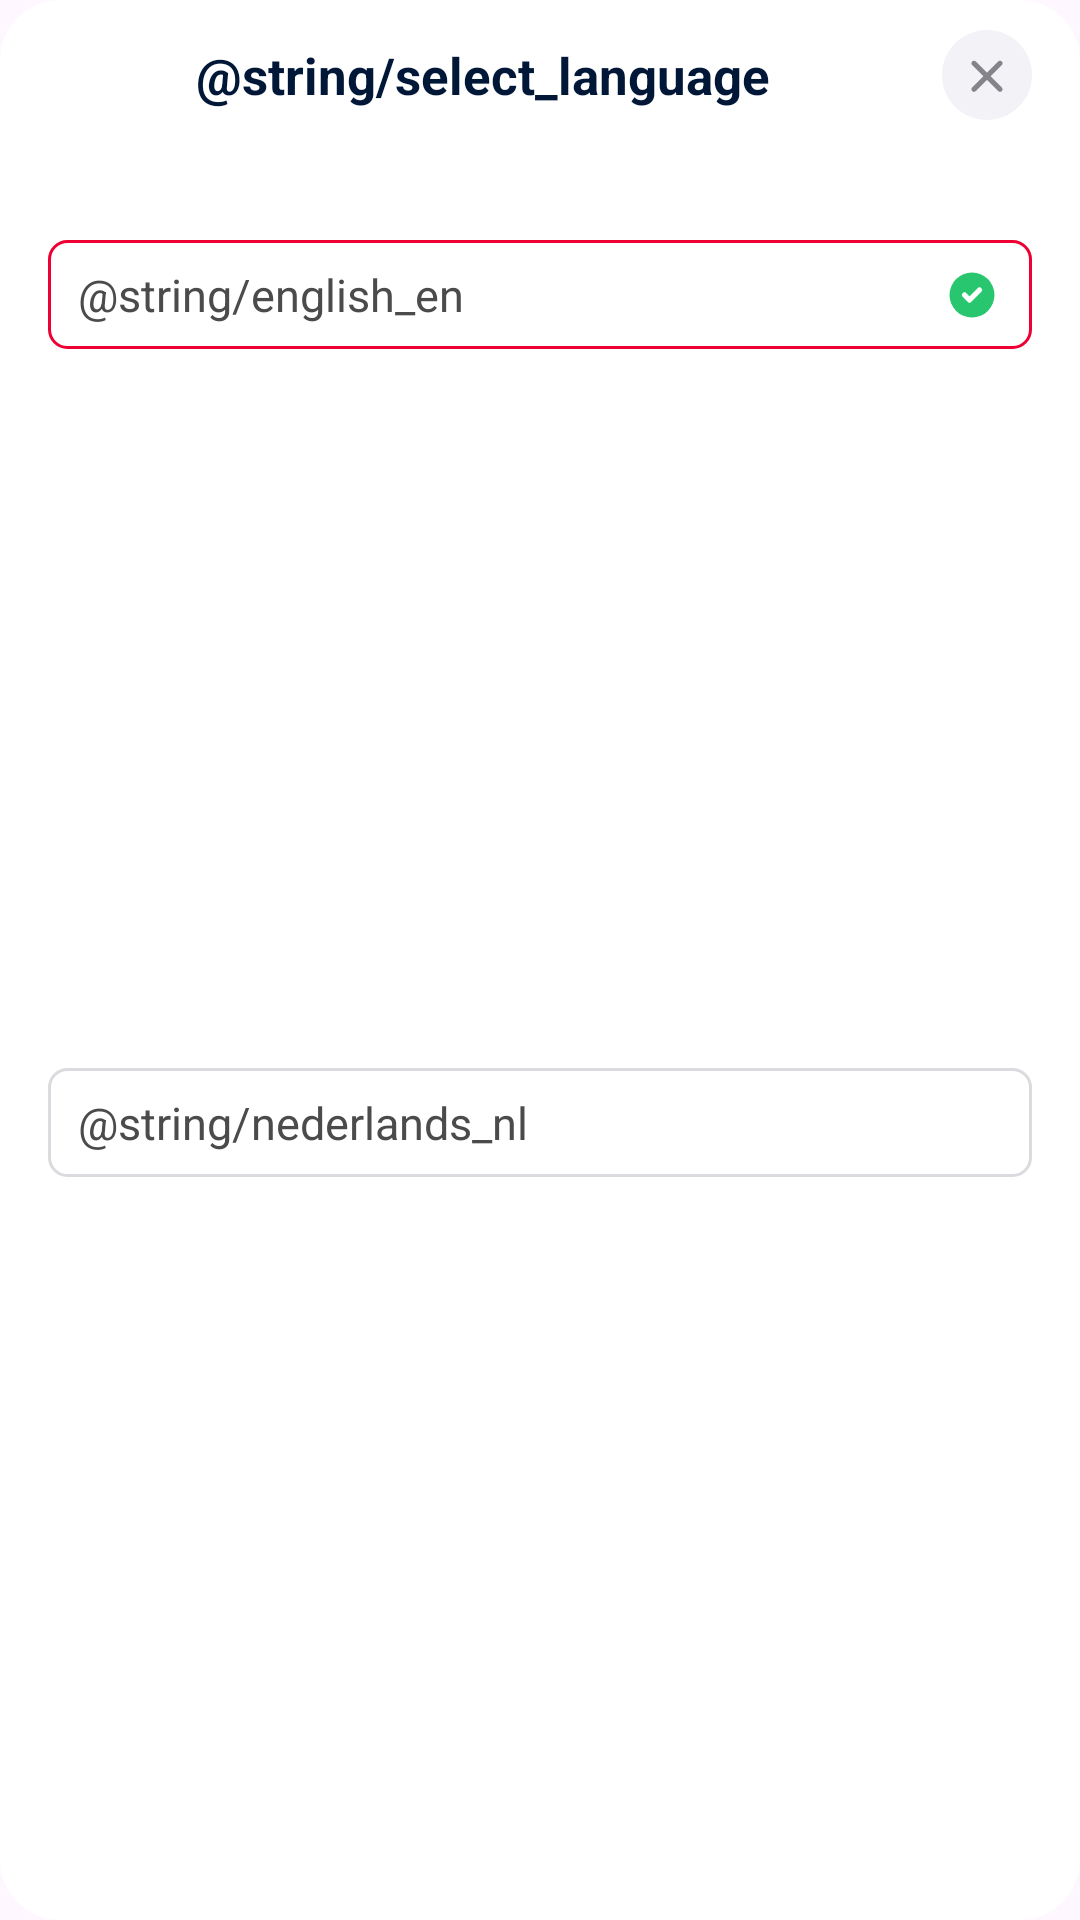

Where icons sit on this 1080x1920 app screen, as bbox(x1, y1, x2, y2):
circle check: bbox(949, 272, 995, 318)
close: bbox(942, 30, 1032, 120)
